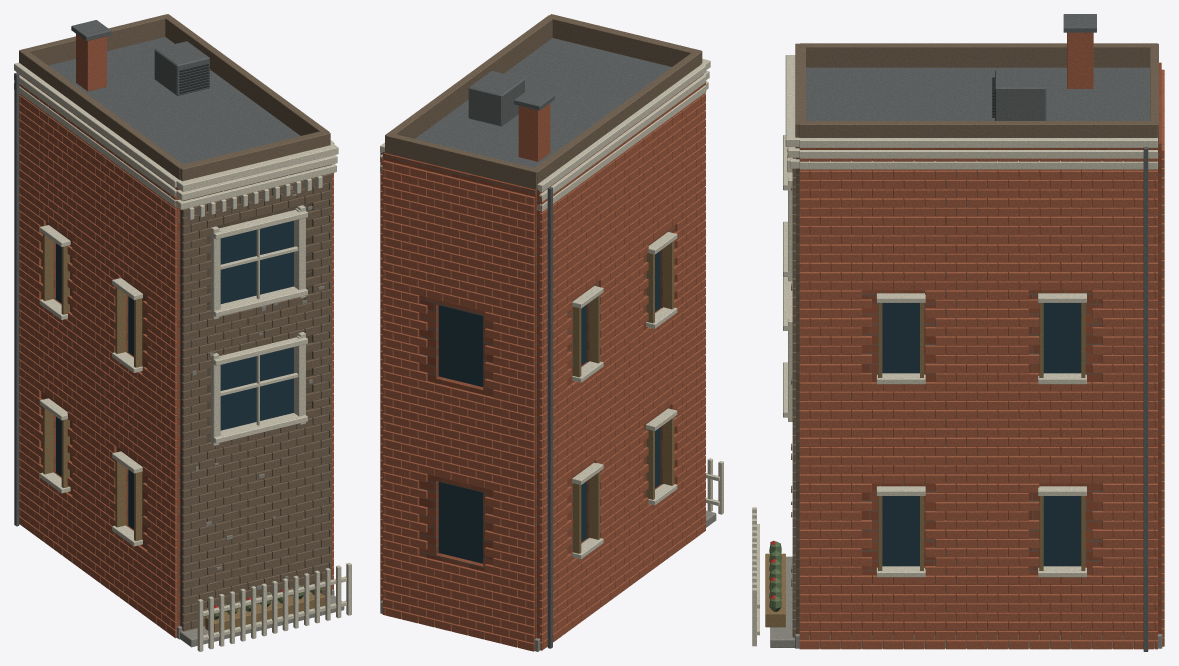
The model's file is VICT18_lod0.glb.
3 views of the same model, side by side, from view 1: azimuth 30°, elevation 25°; view 2: azimuth 150°, elevation 25°; view 3: azimuth 270°, elevation 25° (orthographic). The views are drawn at different scales.
Visible parts, largest first — view 1: VICT18_LOD0; view 2: VICT18_LOD0; view 3: VICT18_LOD0.
Part boxes in pixels (x1,y1,x2,y2): VICT18_LOD0: [14, 14, 351, 651]; VICT18_LOD0: [380, 14, 723, 651]; VICT18_LOD0: [752, 14, 1164, 651].
Bounding box in the file's own units: 3.71 × 10.45 × 6.9.
17 materials, 15 textured.
